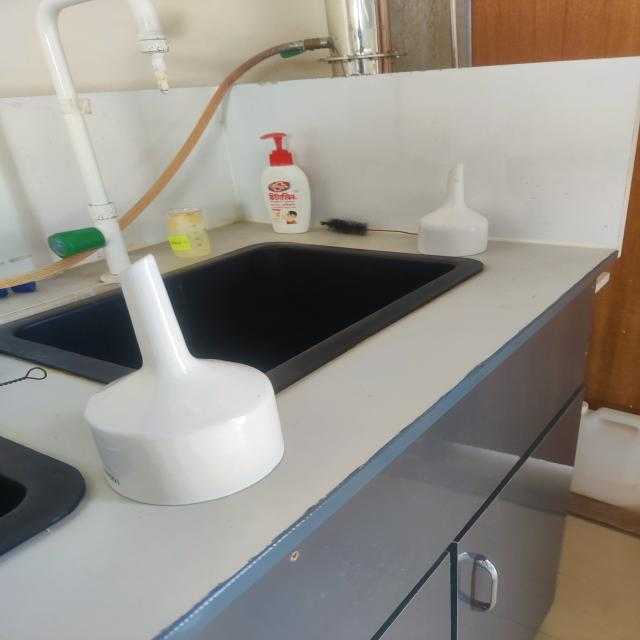Buchner_Funnel: (51, 231, 312, 537), (397, 147, 514, 275)
